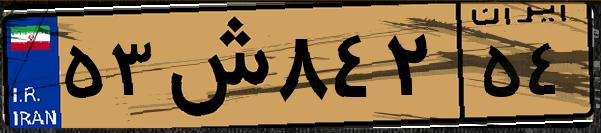2: (385, 28, 445, 110)
3: (110, 28, 158, 98)
4: (330, 28, 385, 110), (525, 38, 570, 115)
5: (57, 26, 110, 100), (475, 38, 525, 113)
8: (270, 28, 330, 110)
ش: (158, 12, 270, 120)
